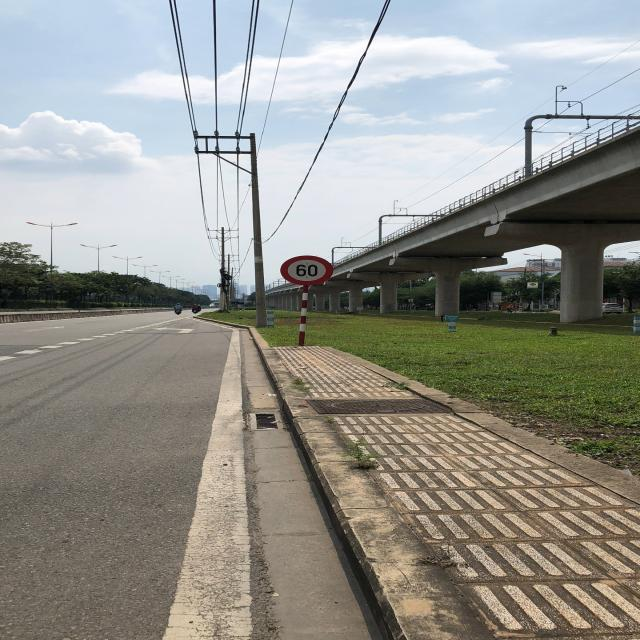Bien bao toc do toi da cho phep: (276, 254, 336, 290)
